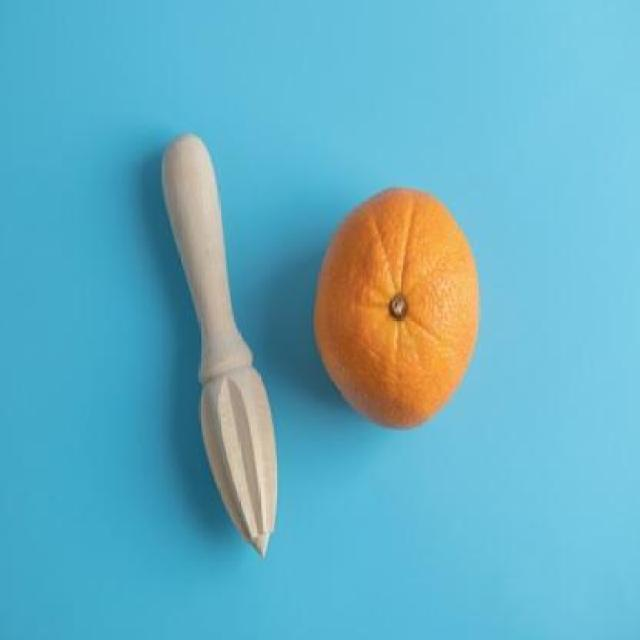Orange: (311, 185, 478, 429)
